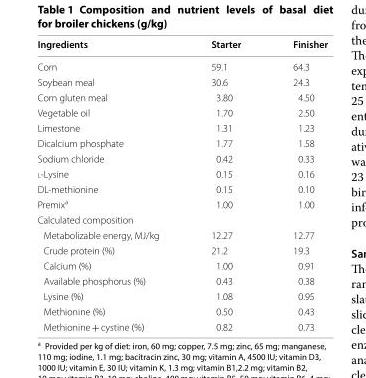table: (36, 37, 327, 339)
table column: (36, 37, 184, 339), (184, 37, 266, 339), (266, 37, 327, 339)
table column header: (36, 37, 327, 55)
table projected row header: (36, 211, 327, 227)
table row: (36, 318, 327, 339), (36, 55, 327, 74), (36, 37, 327, 55), (36, 119, 327, 135), (36, 165, 327, 181), (36, 195, 327, 211), (36, 211, 327, 227), (36, 272, 327, 288), (36, 74, 327, 89), (36, 89, 327, 104), (36, 104, 327, 119), (36, 135, 327, 150), (36, 150, 327, 165), (36, 227, 327, 242), (36, 242, 327, 257), (36, 257, 327, 272), (36, 288, 327, 303), (36, 303, 327, 318), (36, 181, 327, 195)
